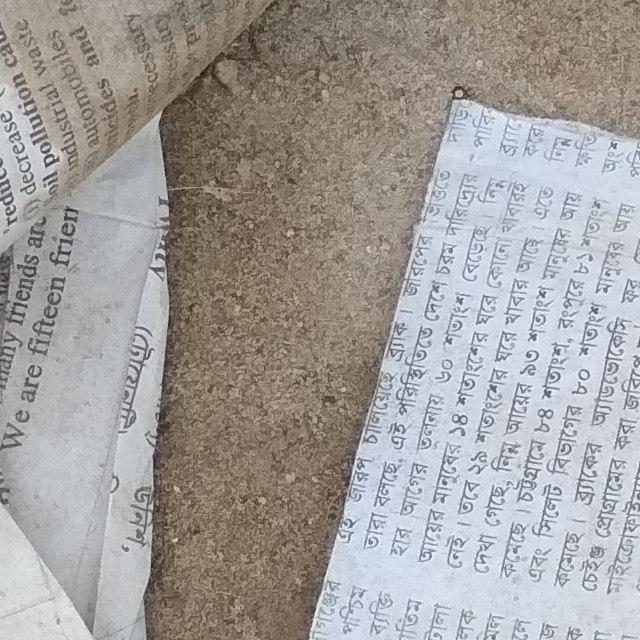paper: (0, 0, 640, 513), (0, 0, 404, 640), (229, 45, 640, 640)
